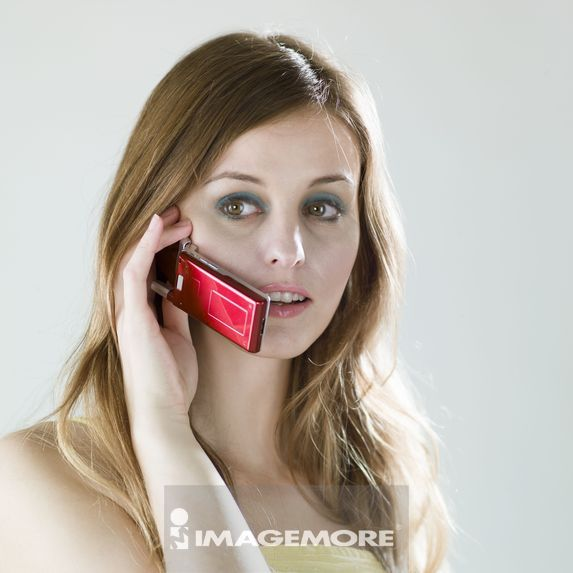phone: (151, 236, 266, 355)
talk: (109, 159, 359, 435)
